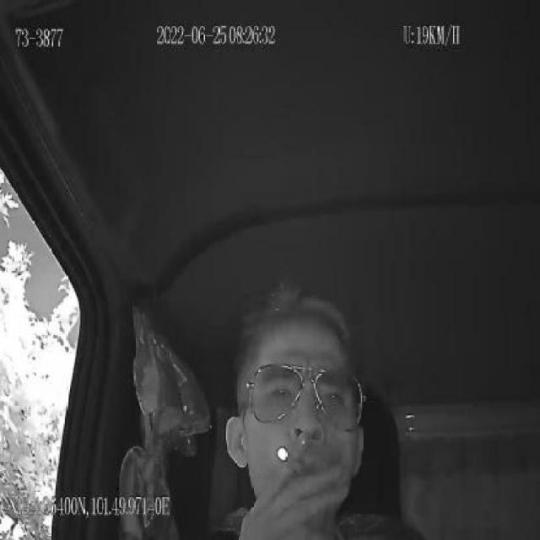smoking: (275, 444, 311, 484)
